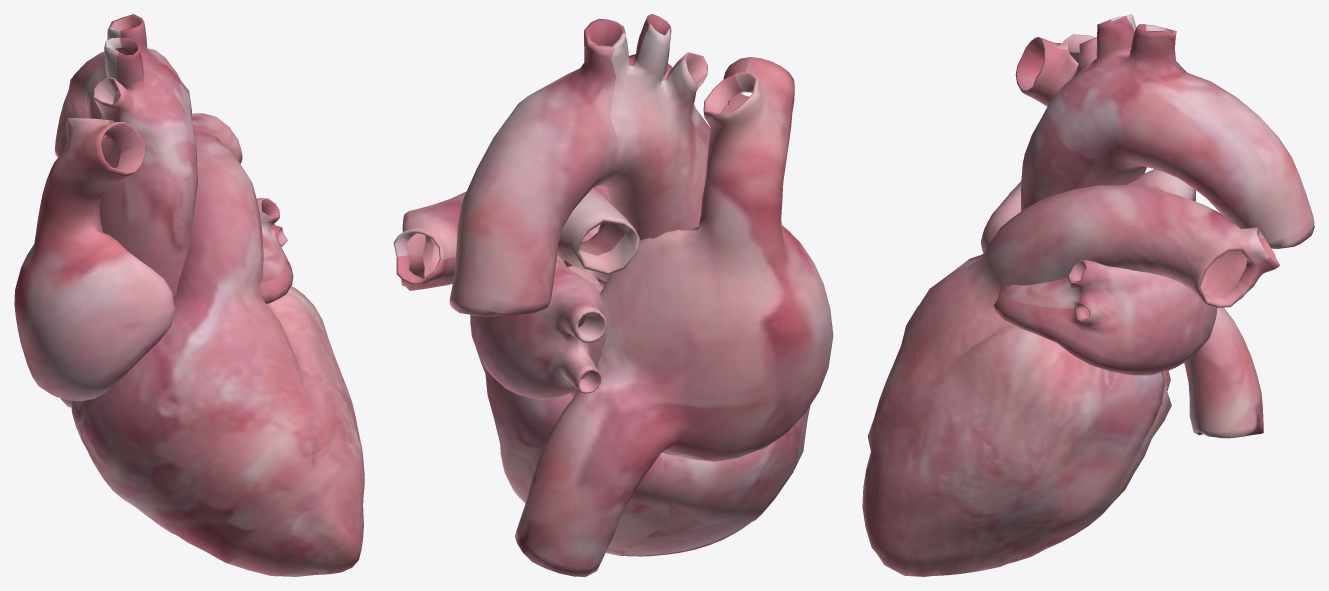
Rendered from heart.glb.
3 views of the same model, side by side, from view 1: azimuth 30°, elevation 25°; view 2: azimuth 150°, elevation 25°; view 3: azimuth 270°, elevation 25° (orthographic). The views are drawn at different scales.
Parts seen in each view (by area): view 1: model_20.001; view 2: model_20.001; view 3: model_20.001.
Boxes of the visible parts, <box> form: model_20.001: <box>14,14,364,576</box>; model_20.001: <box>393,14,833,576</box>; model_20.001: <box>862,14,1314,576</box>.
Size of the model in its own units: 0.3601 by 0.6006 by 0.4841.
Materials: 1 (1 with a texture image).
